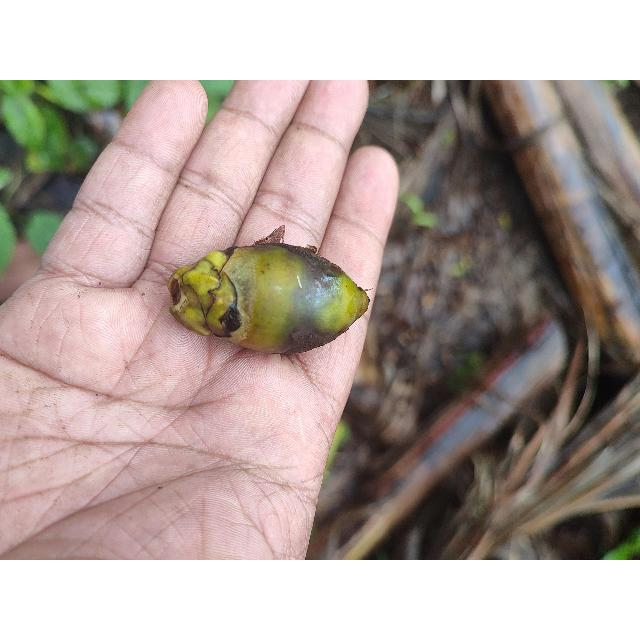damaged: (167, 242, 371, 357)
